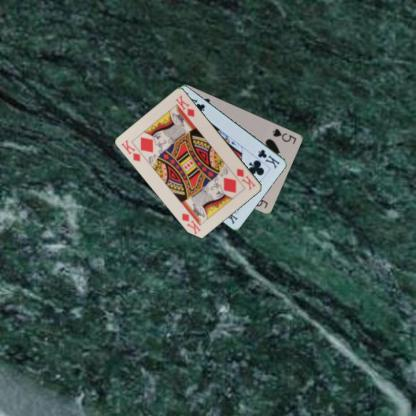5s: (270, 126, 297, 145)
Kc: (256, 147, 282, 170)
Kd: (119, 138, 142, 164), (234, 166, 257, 191)
